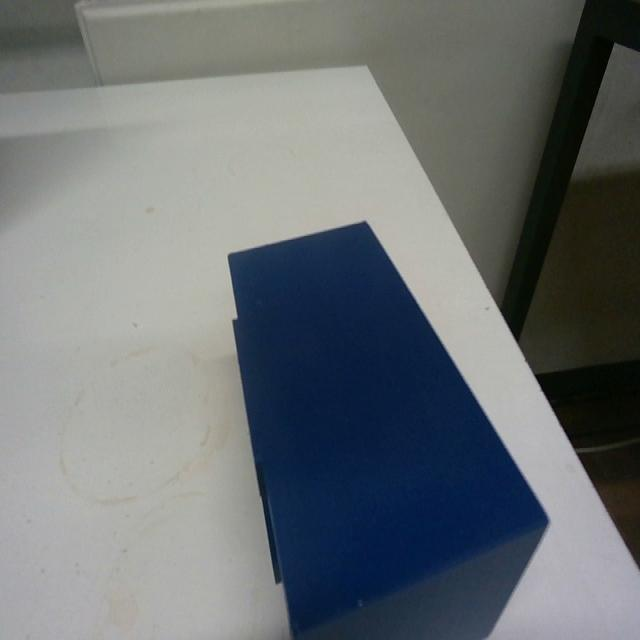Blue Cuboid: (225, 216, 550, 637)
